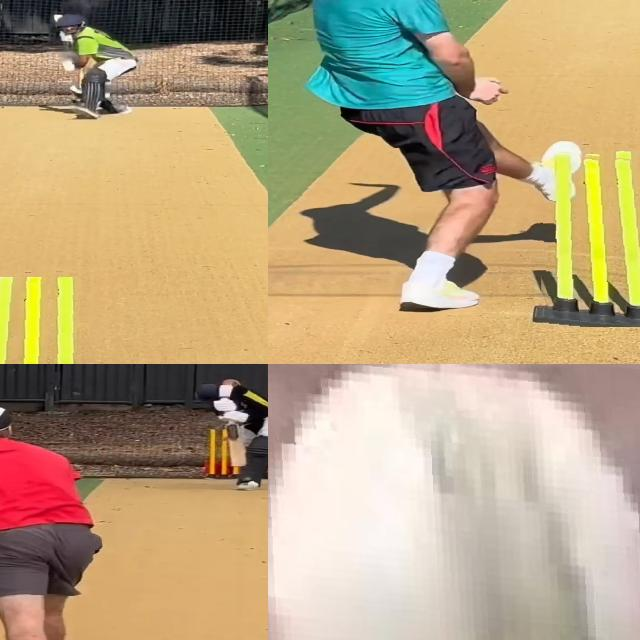Cricket ball: (268, 364, 640, 640), (248, 480, 259, 487)
Stumps: (534, 150, 640, 326), (0, 277, 100, 364)
